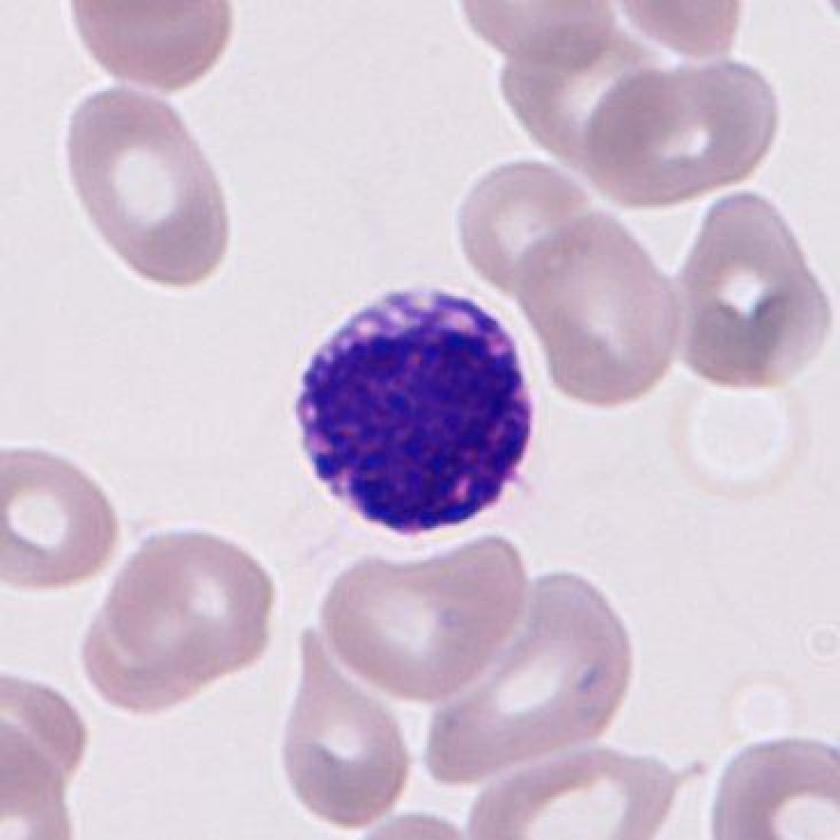basophil: (288, 283, 547, 543)
